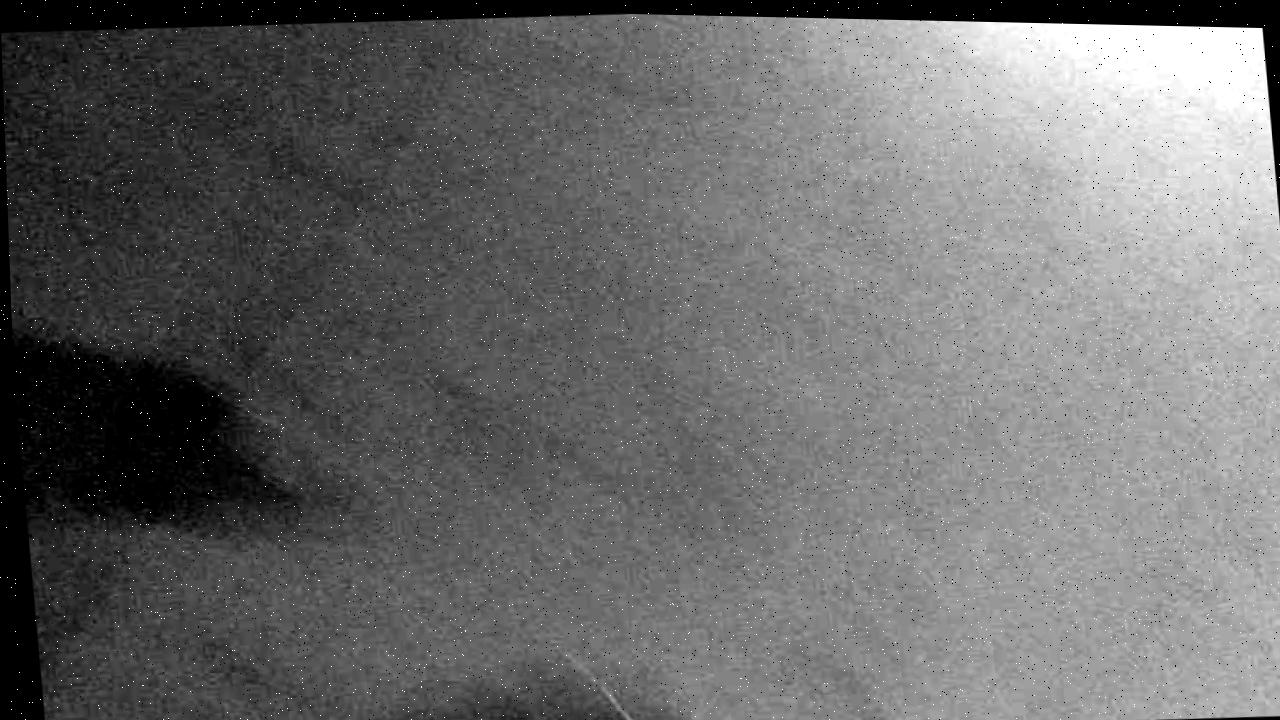drinks Stains: (8, 291, 302, 574), (229, 634, 823, 720)
